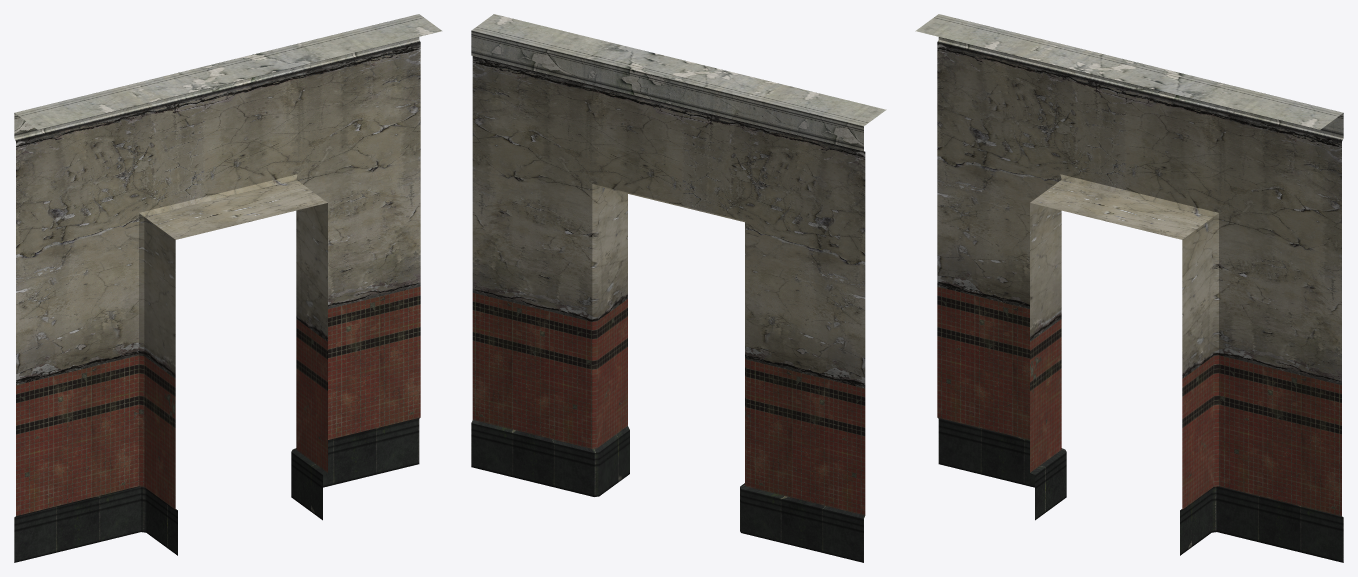
File: urban_damaged_doorway_wall.dae
3 renders of one model, left to right at view 1: azimuth 30°, elevation 25°; view 2: azimuth 150°, elevation 25°; view 3: azimuth 330°, elevation 25°, orthographic. The views are drawn at different scales.
Visible parts, largest first — view 1: polySurface842, polySurface848, polySurface850; view 2: polySurface842, polySurface848, polySurface850; view 3: polySurface842, polySurface848, polySurface850.
Boxes of the visible parts, bbox=[...] form: polySurface842: bbox=[16, 42, 420, 385]; polySurface848: bbox=[16, 286, 420, 515]; polySurface850: bbox=[14, 14, 442, 562]; polySurface842: bbox=[472, 56, 865, 388]; polySurface848: bbox=[472, 293, 865, 515]; polySurface850: bbox=[471, 14, 886, 562]; polySurface842: bbox=[937, 42, 1341, 385]; polySurface848: bbox=[937, 286, 1341, 515]; polySurface850: bbox=[915, 14, 1343, 562].
Bounding box in the file's own units: 4 × 4.25 × 0.6009.
